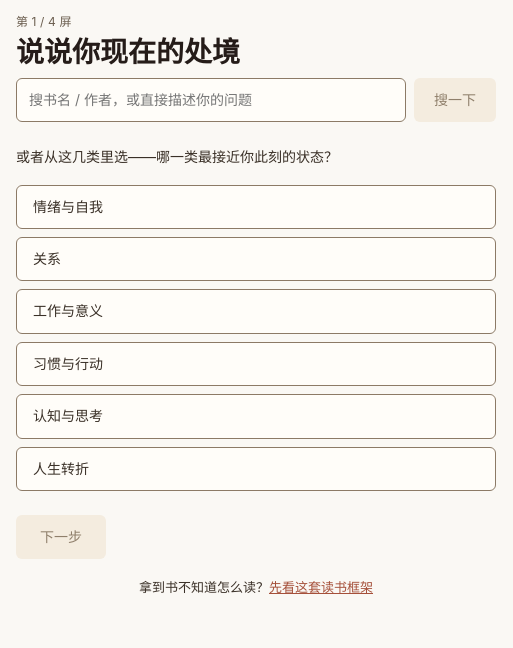
Test case: QuizView 四屏流 › 多选 2 项后追问主诉；未指定前下一步禁用
The width and height of the screenshot is (513, 648).
Click the button "情绪与自我".
click(68, 206)  # box [16,185,496,229]
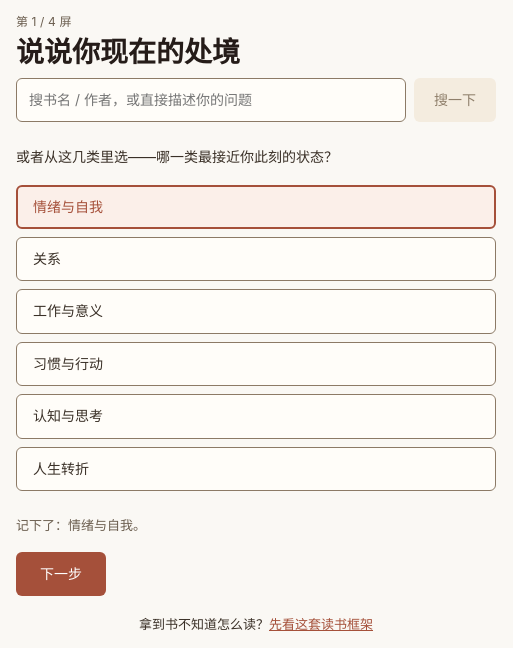
Click the button "下一步".
click(61, 574)  # box [16,552,106,596]
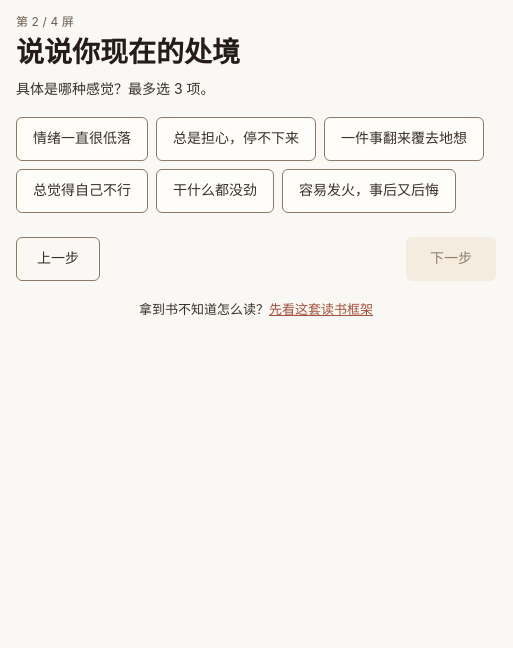
Click the button "情绪一直很低落".
click(82, 139)  # box [16,117,148,161]
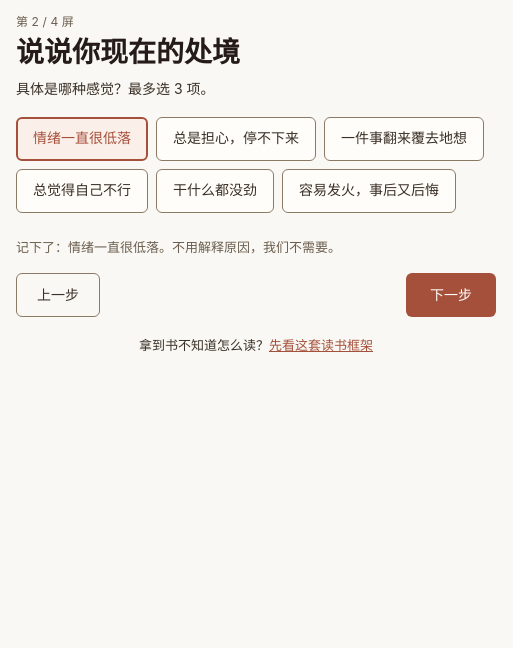
Expected: the text "哪个最急" is not shown
Click the button "总是担心，停不下来".
click(236, 139)  # box [156,117,316,161]
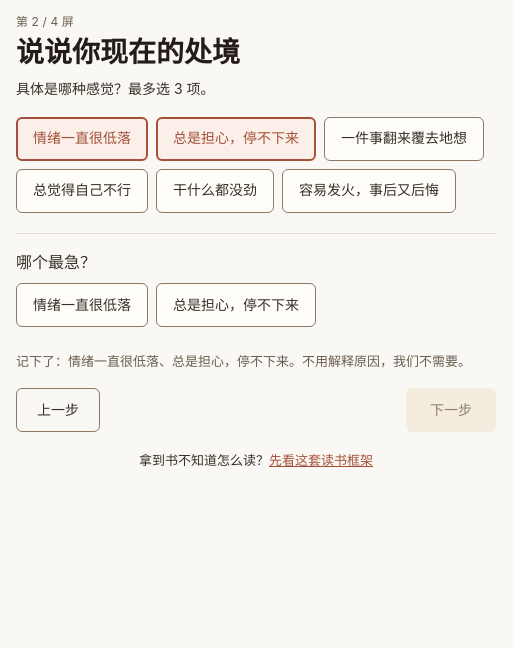
Now the text "哪个最急" is shown, box [16,252,96,272]
Now the button "下一步" is disabled, box [406,388,496,432]
